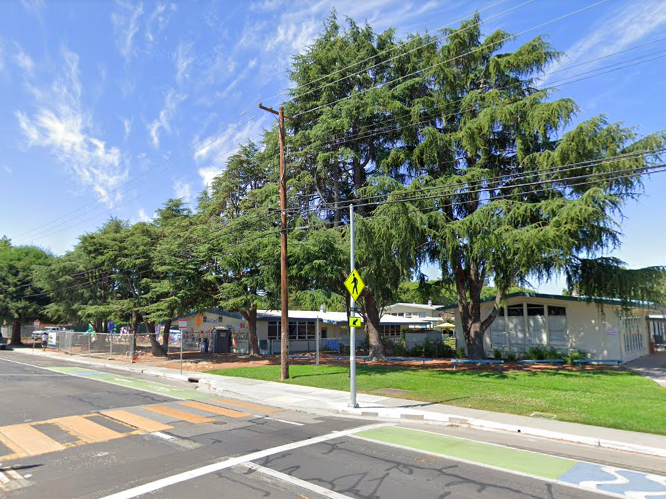utility_pole: (248, 94, 303, 147)
